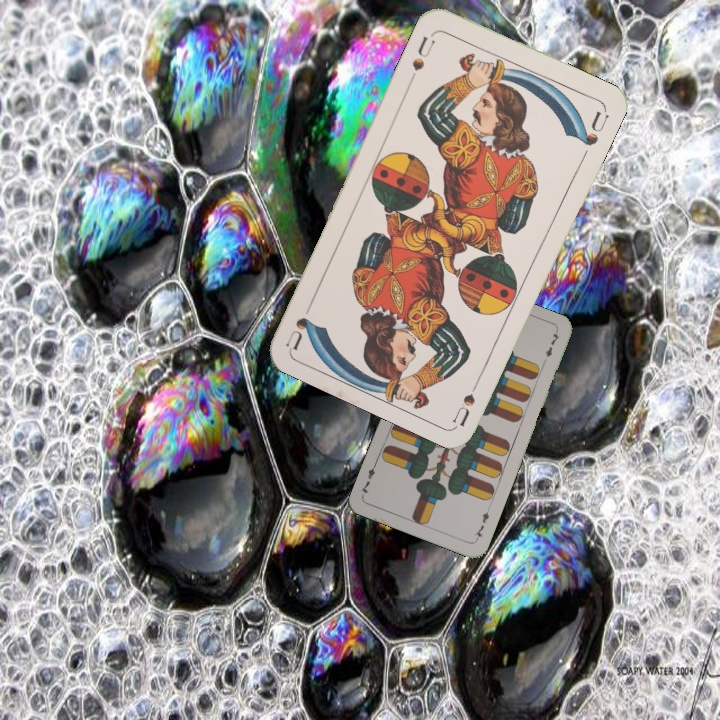E7: (470, 505, 492, 543)
SU: (449, 370, 485, 427), (406, 28, 438, 84)
